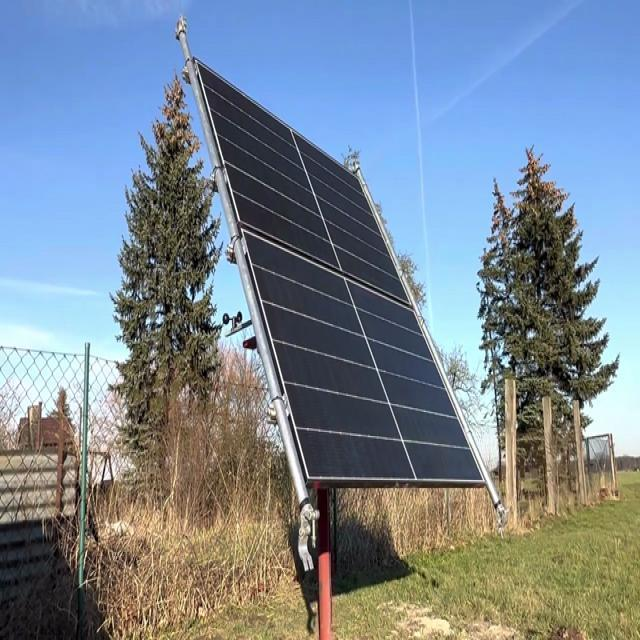Normal Solar Panel: (193, 59, 485, 480)
